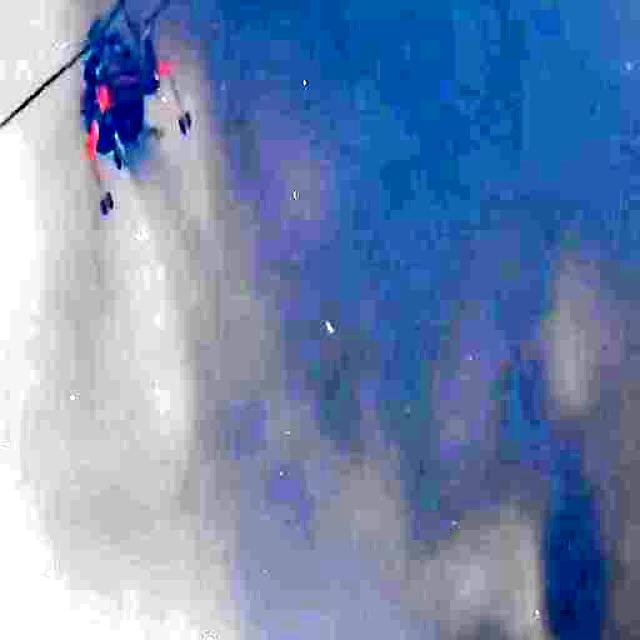drone: (0, 0, 218, 230)
